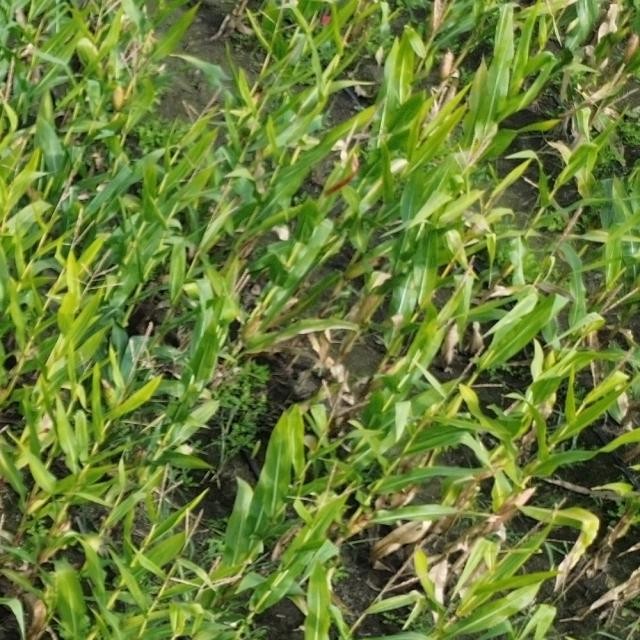northern-leaf-blight: (539, 501, 610, 587)
